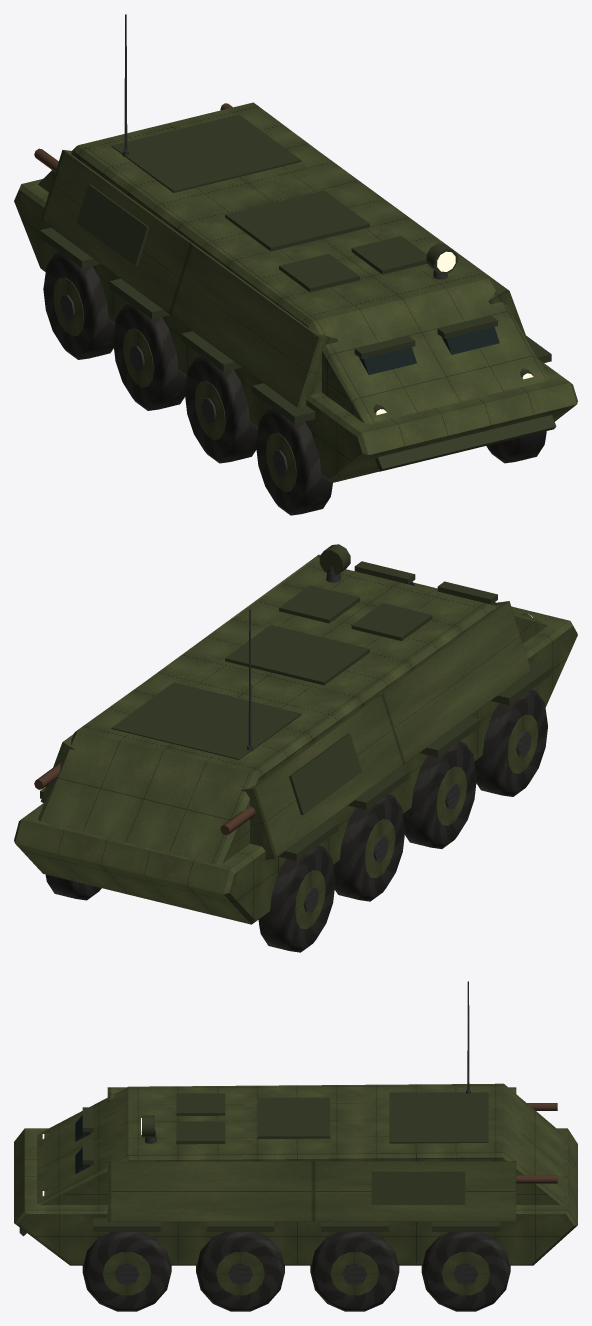
Rendered from btr60pb_lod1.glb.
3 renders of one model, top to bottom at view 1: azimuth 30°, elevation 25°; view 2: azimuth 150°, elevation 25°; view 3: azimuth 270°, elevation 25°, orthographic. The views are drawn at different scales.
Parts seen in each view (by area): view 1: BTR60_8x8_APC; view 2: BTR60_8x8_APC; view 3: BTR60_8x8_APC.
Boxes of the visible parts, <box> form: BTR60_8x8_APC: <box>14,14,577,515</box>; BTR60_8x8_APC: <box>14,544,577,952</box>; BTR60_8x8_APC: <box>14,981,577,1311</box>.
Bounding box in the file's own units: 2.98 × 3.62 × 7.1.
7 materials, 3 textured.
